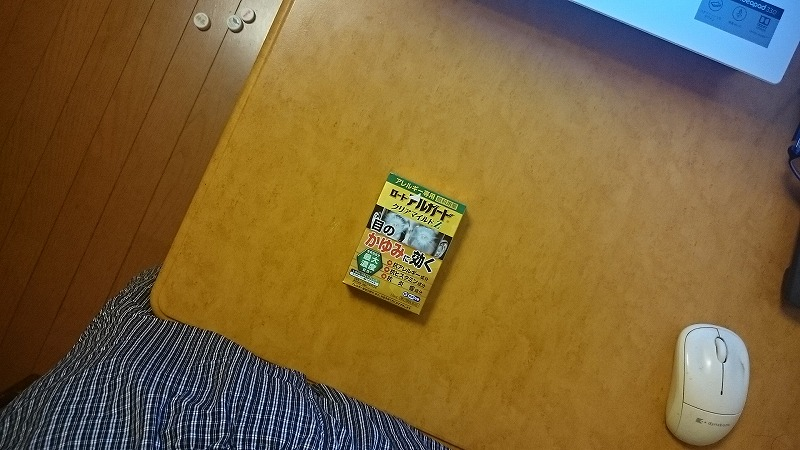C: (337, 168, 469, 327)
